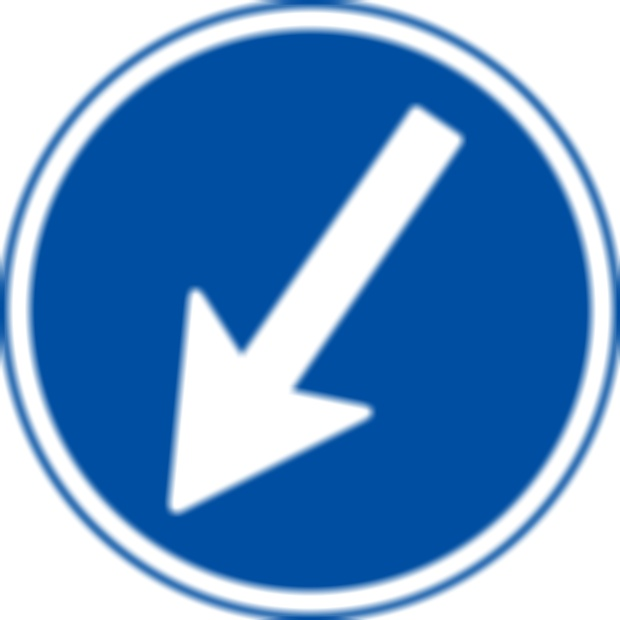Direction_sign: (9, 12, 615, 612)
